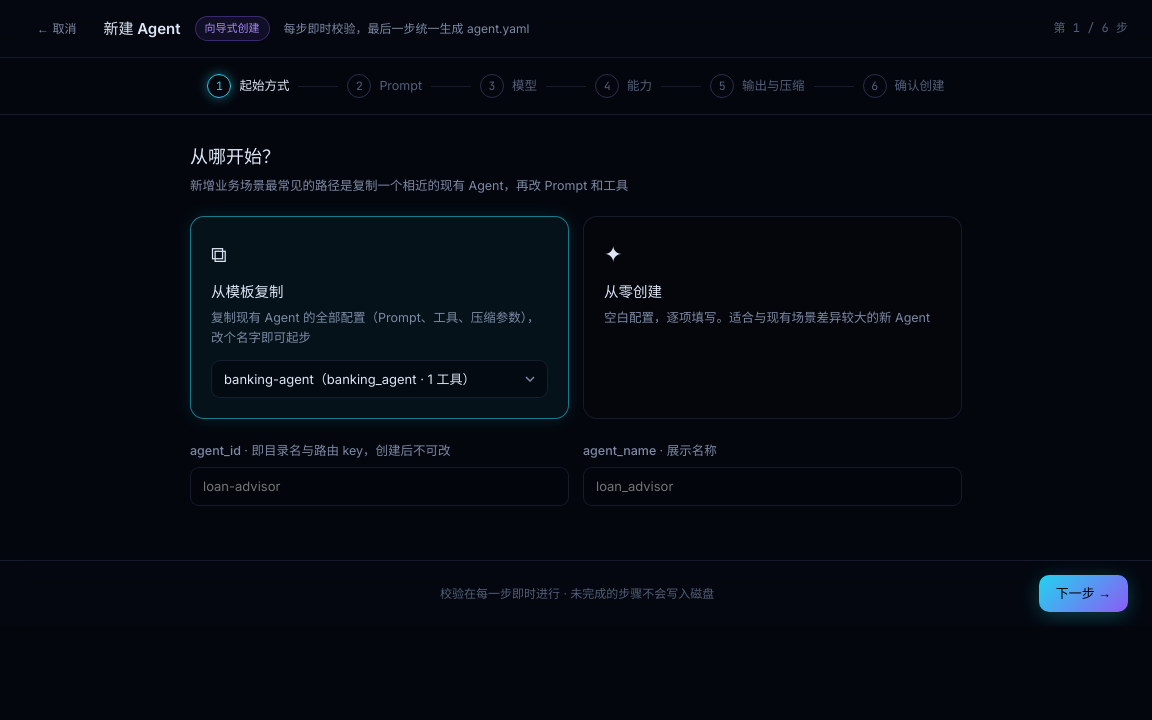
Test: AgentWizardPage › prefills from the ?from= template
Type "copy-agent" into the field named "agent_id". click: point(380, 487)
box: [190,467,569,506]
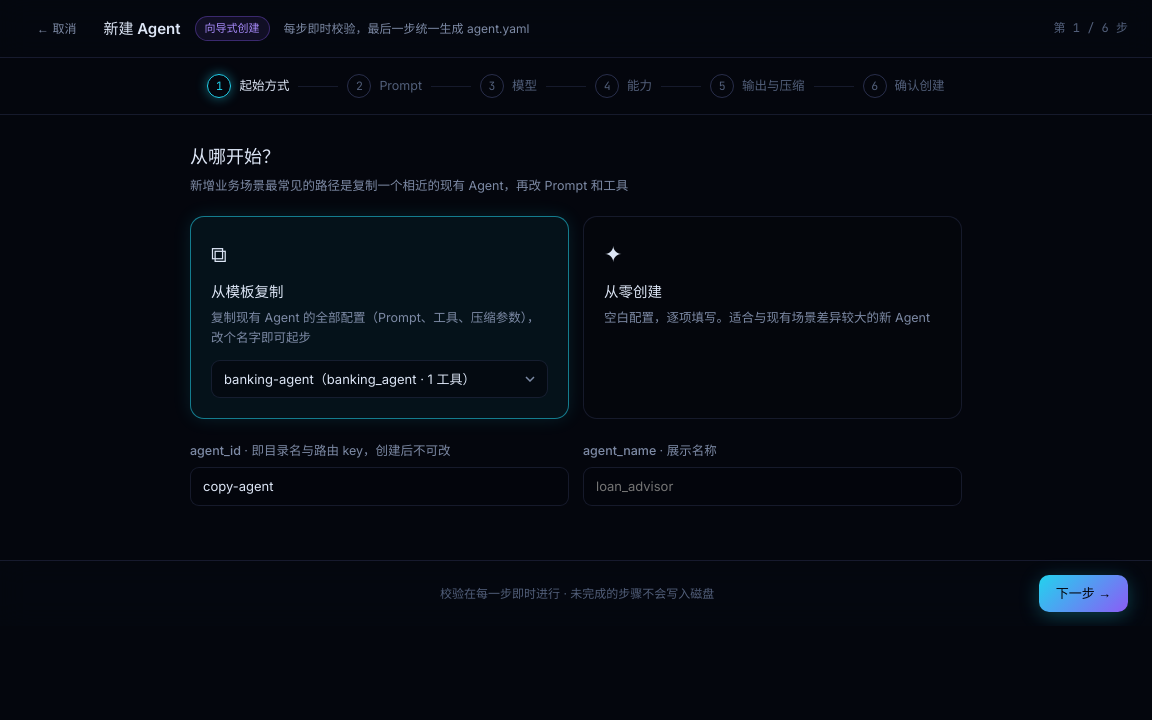
Type "copy_agent" into the field named "agent_name". click: point(772, 487)
box: [583,467,962,506]
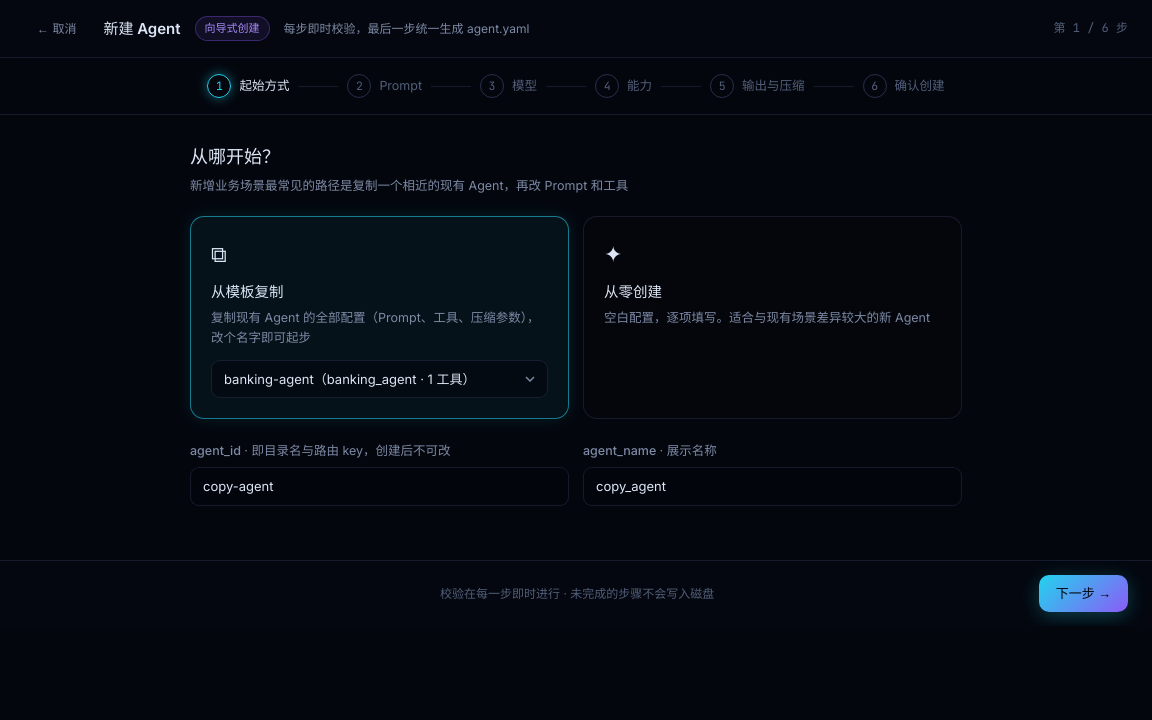
Click the button "下一步 →". click: point(1083, 594)
box: [1039,575,1128,612]
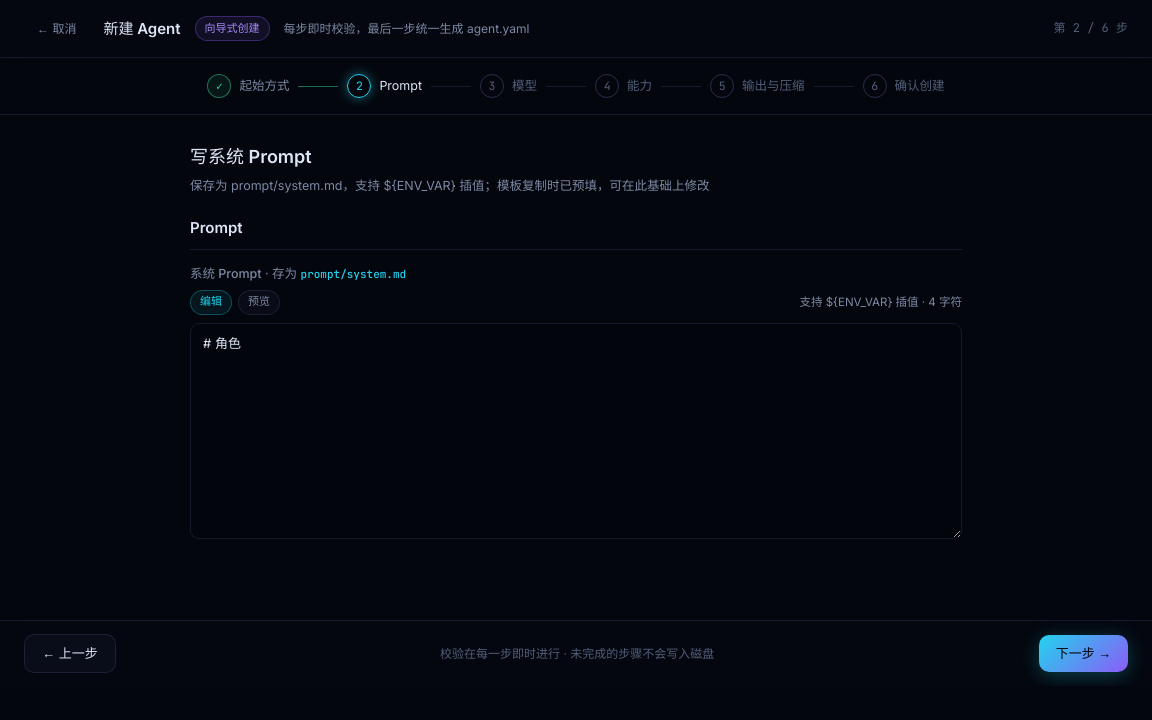
Click the button "下一步 →". click: point(1083, 653)
box: [1039,635,1128,672]
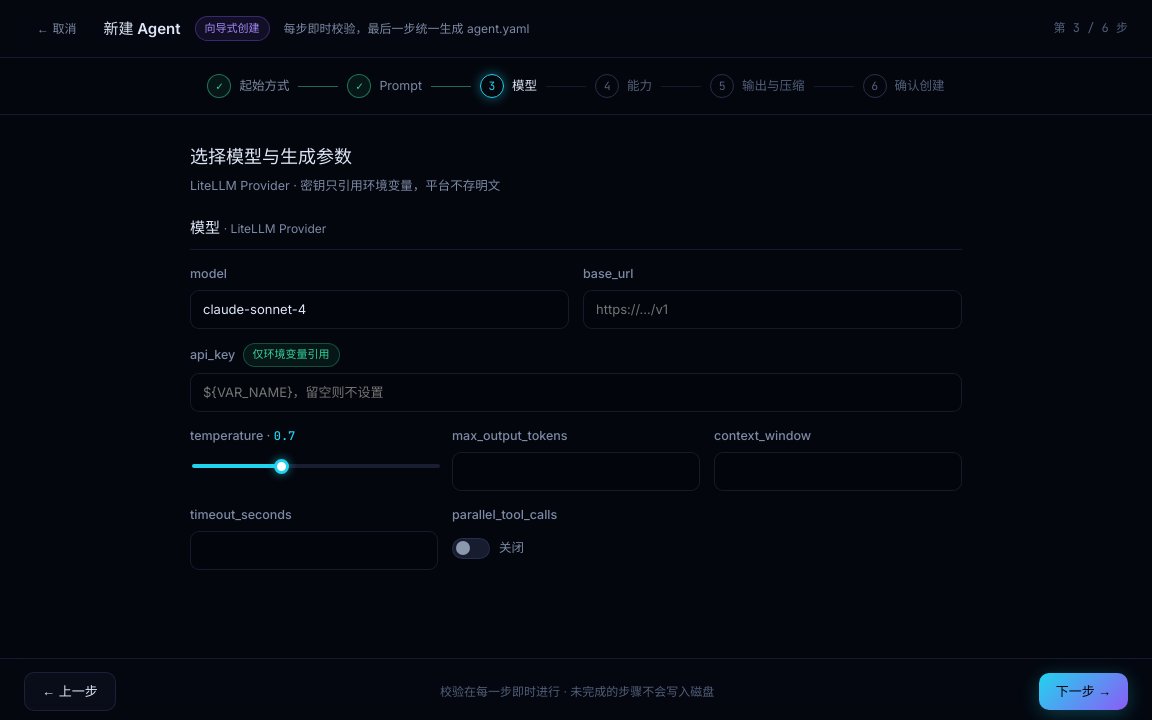
Check: the field named "model" holds "claude-sonnet-4", box [190,290,569,329]
